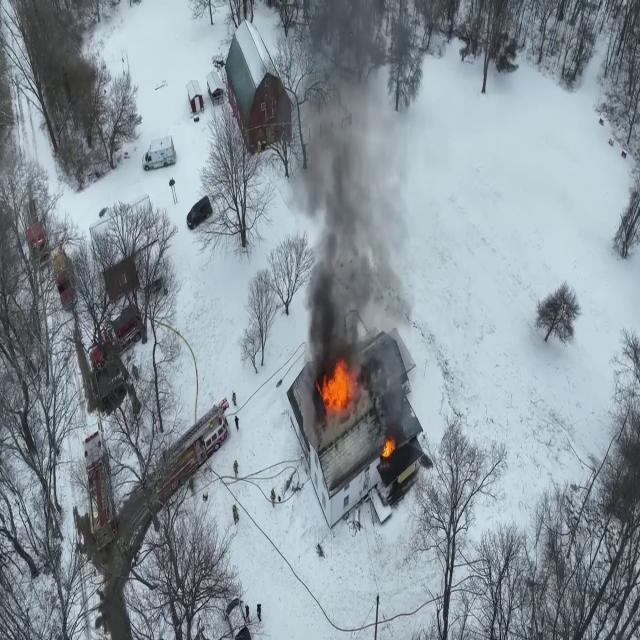Fire: (318, 351, 362, 425), (376, 434, 399, 460)
Smoke: (286, 5, 429, 411)
